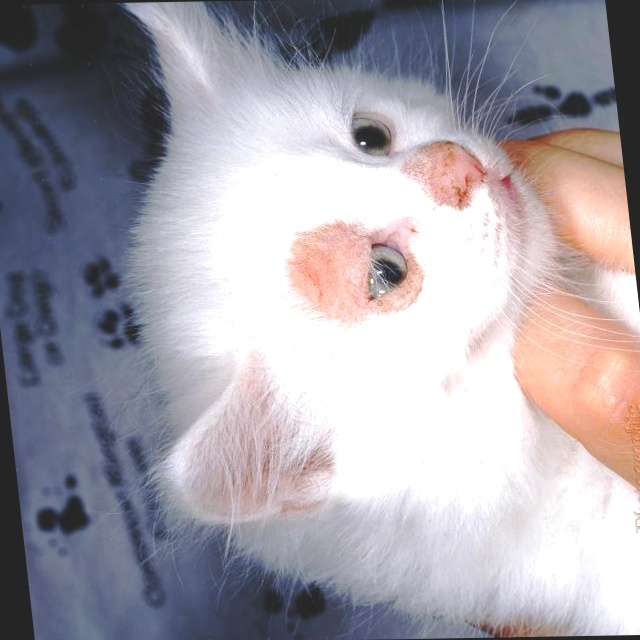ringworm: (289, 225, 369, 308)
